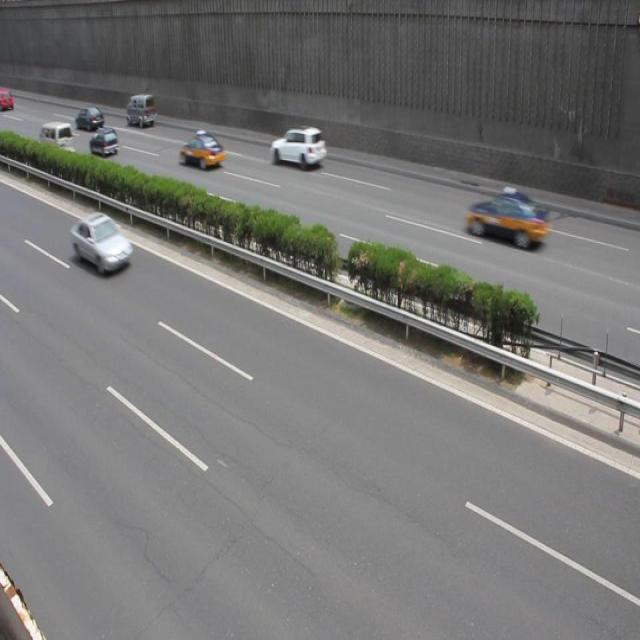car: (465, 186, 551, 250), (72, 212, 132, 275), (270, 127, 326, 169), (178, 131, 224, 170), (89, 128, 118, 158), (76, 106, 105, 131)
truck: (37, 124, 76, 159), (125, 94, 156, 126)
